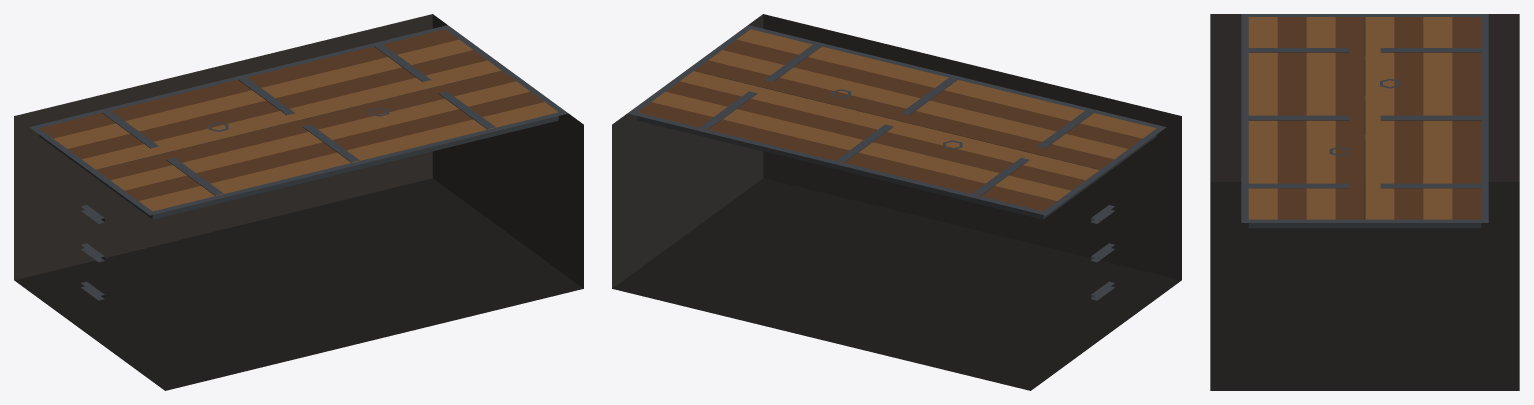
File: SM_ColTrapdoor.fbx
The picture shows the model from 3 angles, left to right: view 1: azimuth 30°, elevation 25°; view 2: azimuth 150°, elevation 25°; view 3: azimuth 270°, elevation 25°; orthographic projection. The views are drawn at different scales.
Parts seen in each view (by area): view 1: SM_ColTrapdoor_Frame, LeafB, LeafF; view 2: SM_ColTrapdoor_Frame, LeafF, LeafB; view 3: SM_ColTrapdoor_Frame, LeafB, LeafF.
Boxes of the visible parts, x1,y1,x2,y2 form: SM_ColTrapdoor_Frame: (14,14,583,390); LeafB: (96,71,558,216); LeafF: (39,29,501,169); SM_ColTrapdoor_Frame: (612,14,1181,390); LeafF: (637,71,1099,216); LeafB: (694,29,1156,169); SM_ColTrapdoor_Frame: (1210,14,1519,390); LeafB: (1248,17,1364,225); LeafF: (1365,17,1481,225).
Bounding box in the file's own units: 8 × 5 × 3.01.
